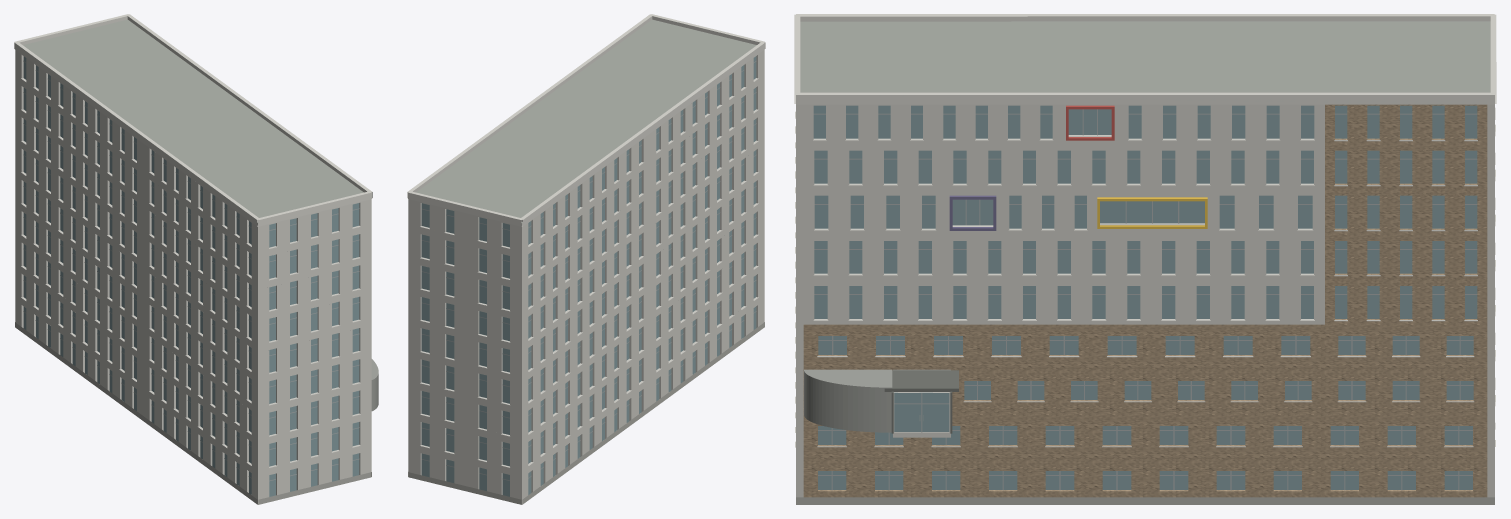
3 renders of one model, left to right at view 1: azimuth 30°, elevation 25°; view 2: azimuth 150°, elevation 25°; view 3: azimuth 270°, elevation 25°, orthographic. The views are drawn at different scales.
Visible parts, largest first — view 1: village__wall, village__roof, village__glass, village__trim, village__base, village__frame; view 2: village__wall, village__roof, village__glass, village__trim, village__base, village__frame; view 3: village__wall2, village__wall, village__glass, village__roof, village__trim, village__base, village__vestibuleConcrete, village__frame, village__vestibuleFrame, village__accentYellow.
Boxes of the visible parts, bbox=[...] form: village__wall: bbox=[15, 50, 371, 504]; village__roof: bbox=[23, 19, 363, 222]; village__glass: bbox=[23, 56, 359, 496]; village__trim: bbox=[14, 14, 372, 468]; village__base: bbox=[15, 322, 371, 504]; village__frame: bbox=[23, 61, 359, 481]; village__wall: bbox=[408, 50, 764, 504]; village__roof: bbox=[416, 19, 756, 222]; village__glass: bbox=[421, 56, 756, 496]; village__trim: bbox=[407, 14, 765, 468]; village__base: bbox=[408, 322, 764, 504]; village__frame: bbox=[421, 61, 756, 480]; village__wall2: bbox=[803, 104, 1487, 497]; village__wall: bbox=[796, 104, 1494, 497]; village__glass: bbox=[813, 105, 1477, 489]; village__roof: bbox=[800, 21, 1490, 92]; village__trim: bbox=[794, 14, 1496, 447]; village__base: bbox=[796, 497, 1494, 504]; village__vestibuleConcrete: bbox=[804, 369, 892, 432]; village__frame: bbox=[813, 109, 1477, 490]; village__vestibuleFrame: bbox=[884, 370, 958, 433]; village__accentYellow: bbox=[1097, 197, 1207, 228].
Size of the model in its own units: 17.09 by 32.82 by 50.87.
Materials: 14 (1 with a texture image).
